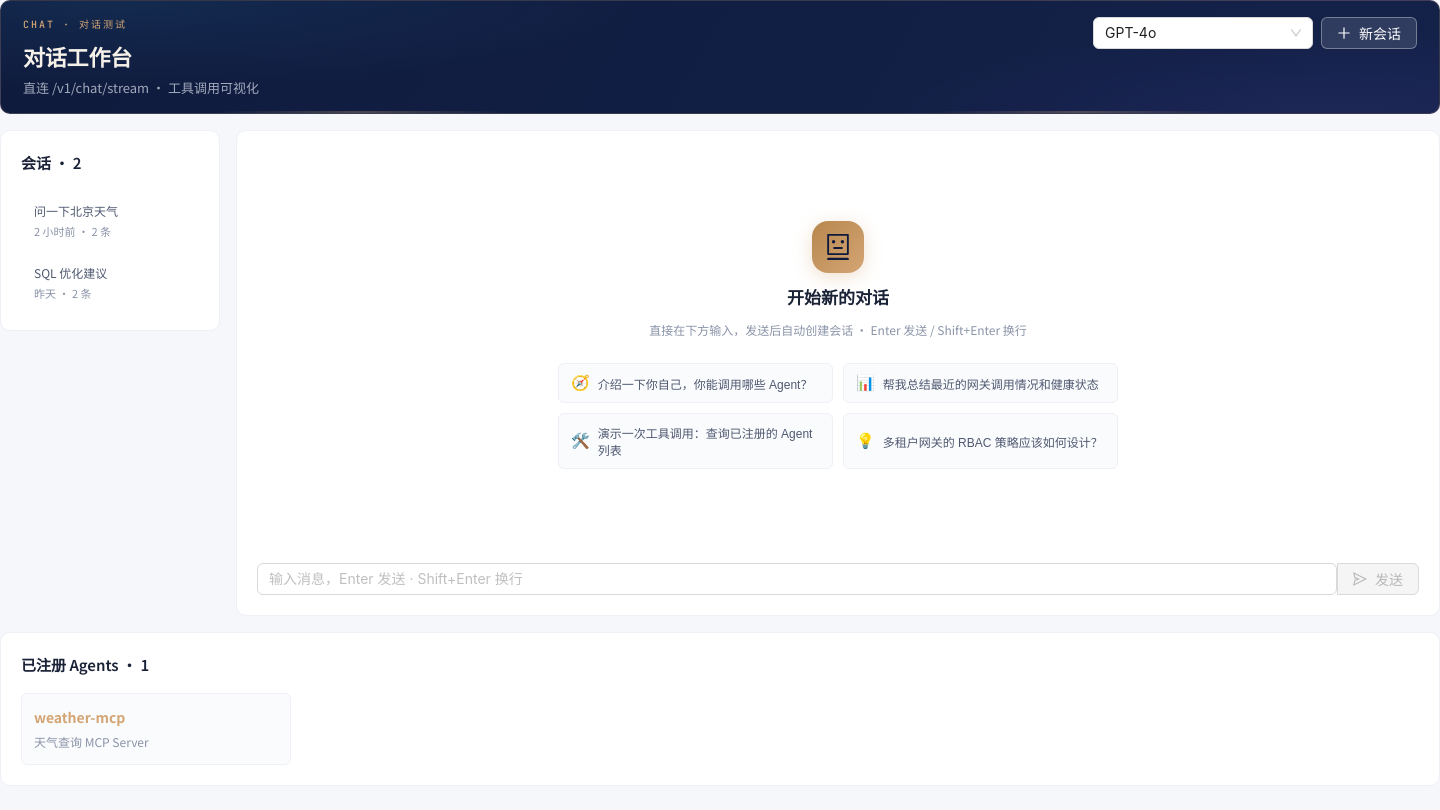
Test: Chat — left menu /chat › shows empty-state hero with suggestions before any message
This screenshot has width=1440, height=810.
expect the text "开始新的对话" is shown: met, box [787,283,889,310]
Note: 建议 chip 存在且可点击填充输入框
Click the button "🧭 介绍一下你自己，你能调用哪些 Agent？" at [696, 383], box [558,363,833,403]
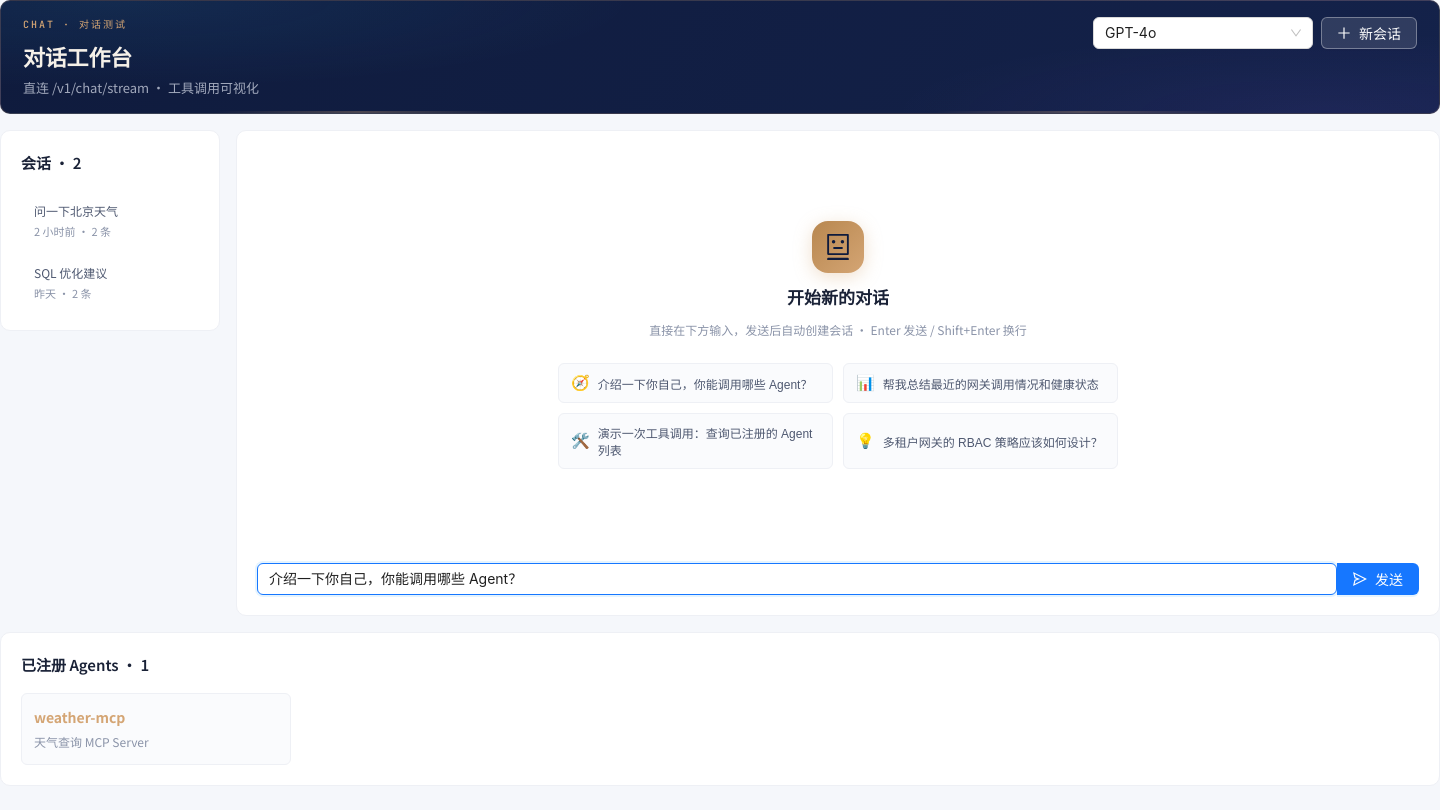
expect the text box showing "介绍一下你自己" is shown: met, box [257,563,1337,595]
